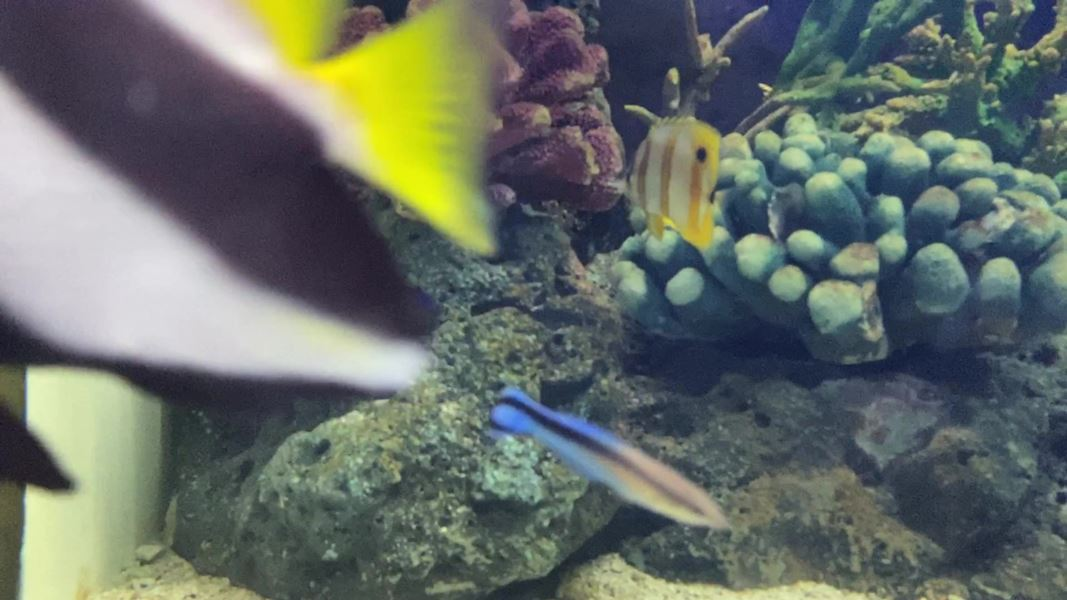Bluesteak cleaner wrasse: (478, 379, 745, 548)
